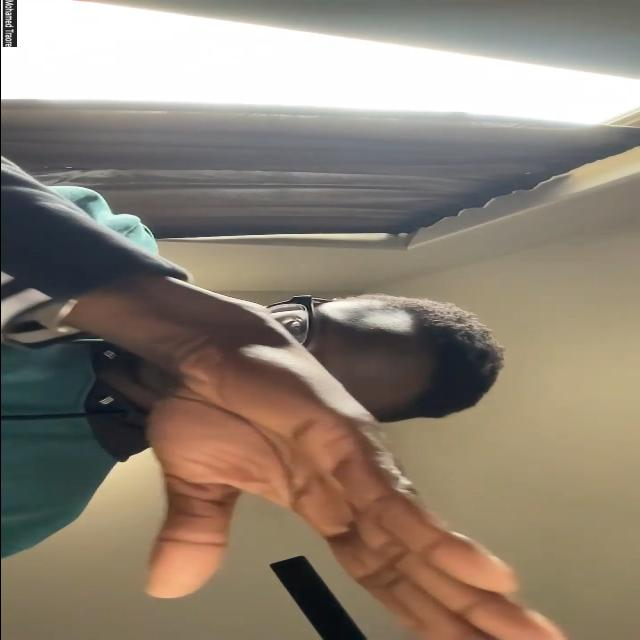Paper: (145, 345, 567, 640)
